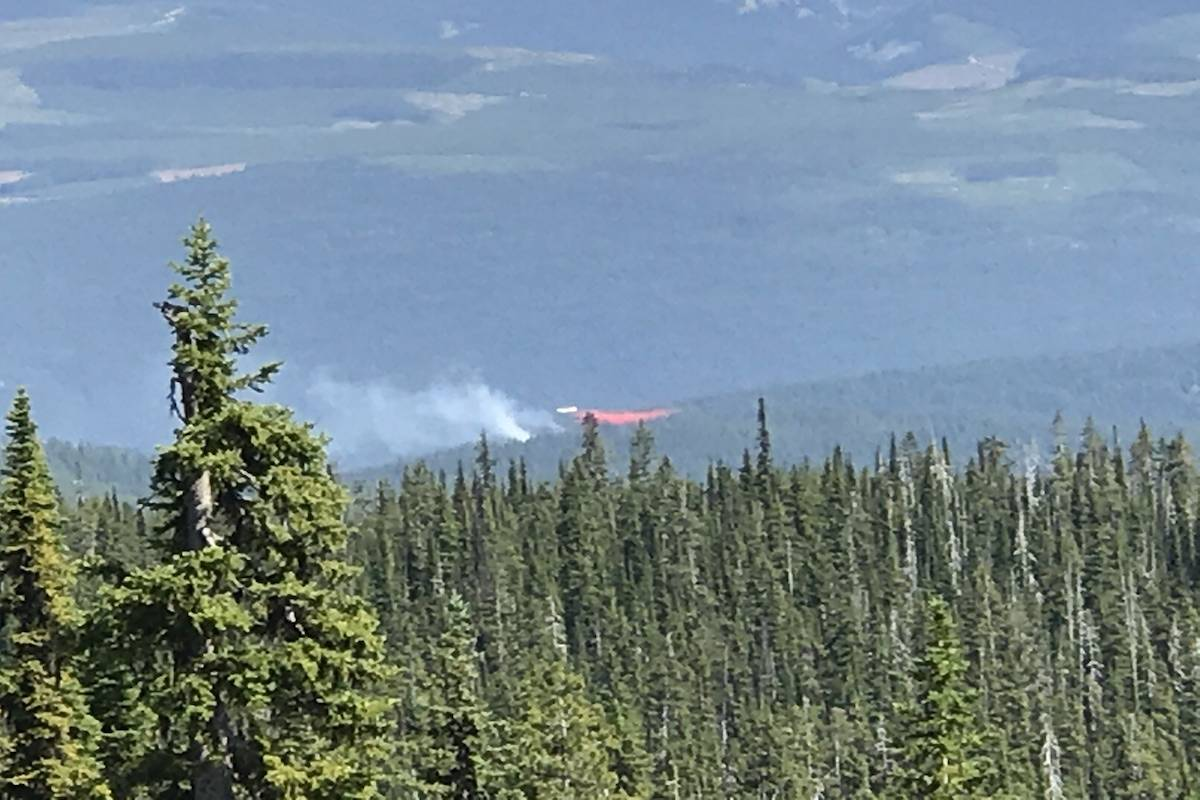fire: (308, 371, 533, 463), (542, 381, 730, 457)
